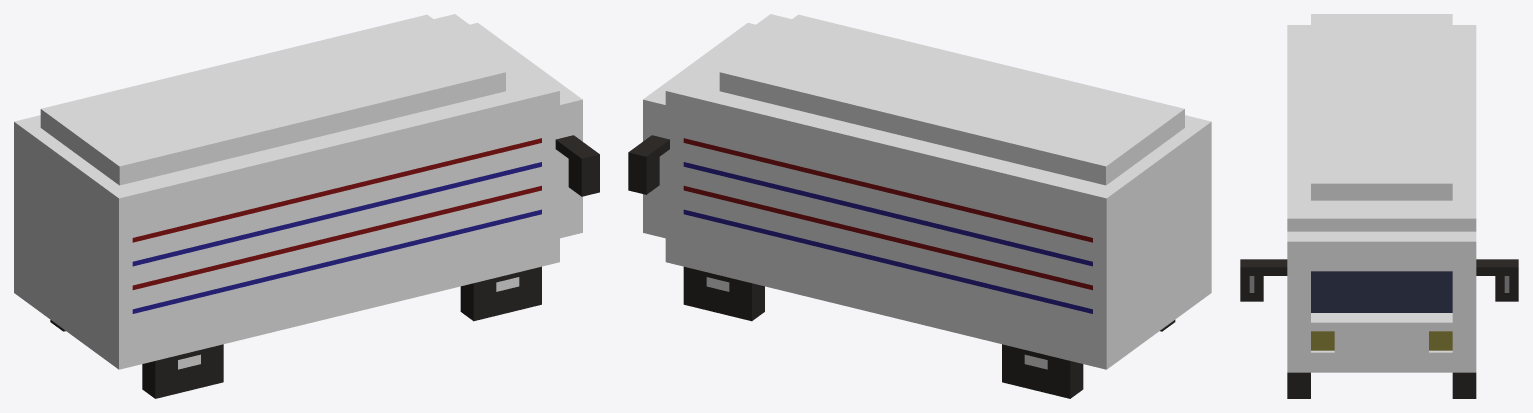
Rendered from bus.obj.
3 views of the same model, side by side, from view 1: azimuth 30°, elevation 25°; view 2: azimuth 150°, elevation 25°; view 3: azimuth 270°, elevation 25° (orthographic). The views are drawn at different scales.
Size of the model in its own units: 102 by 48 by 59.
